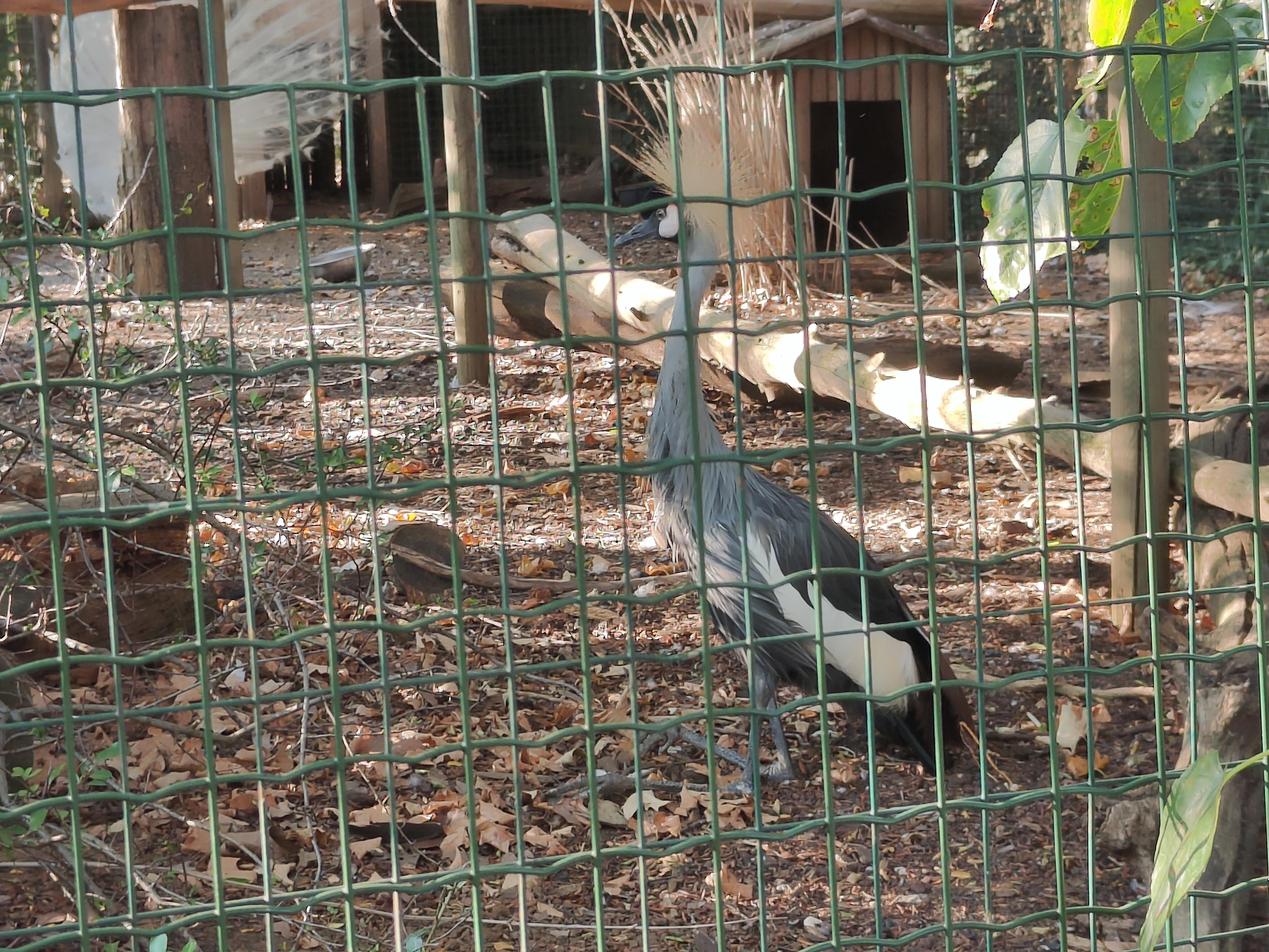apple: (614, 126, 974, 793)
